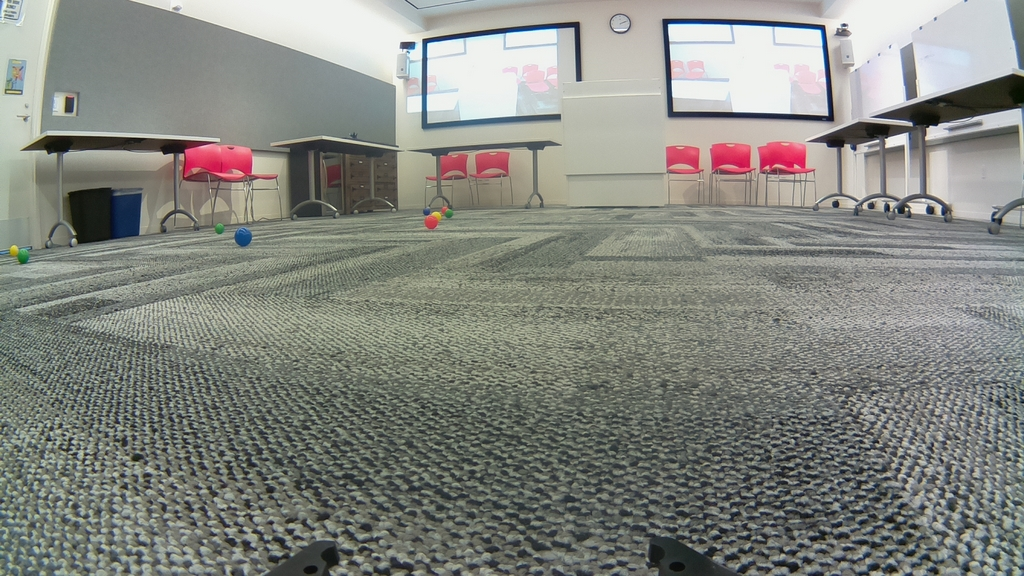ball: (234, 228, 252, 247)
